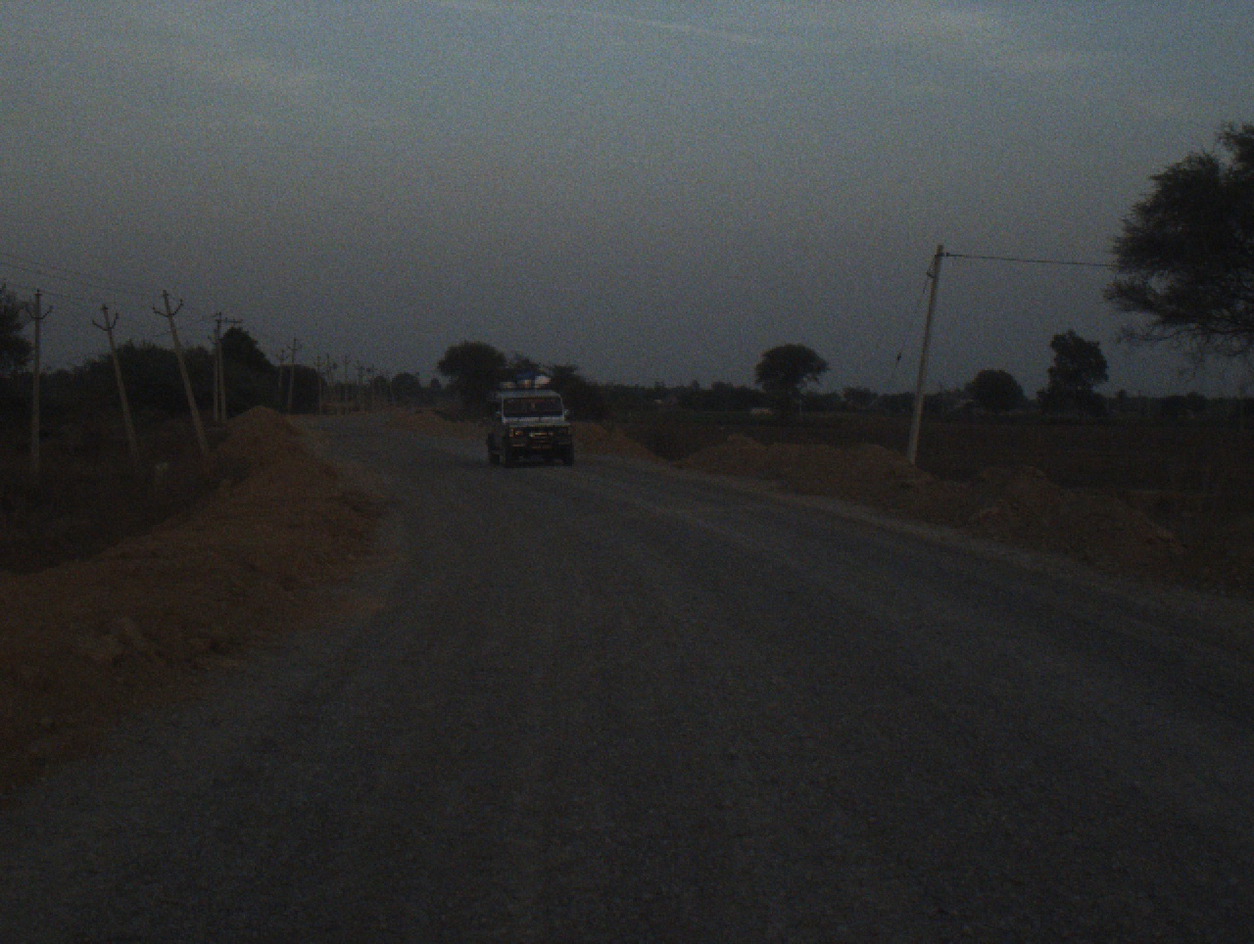car: (487, 363, 580, 476)
